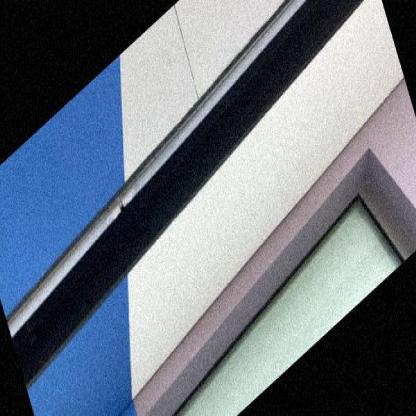light_off: (0, 0, 386, 353)
